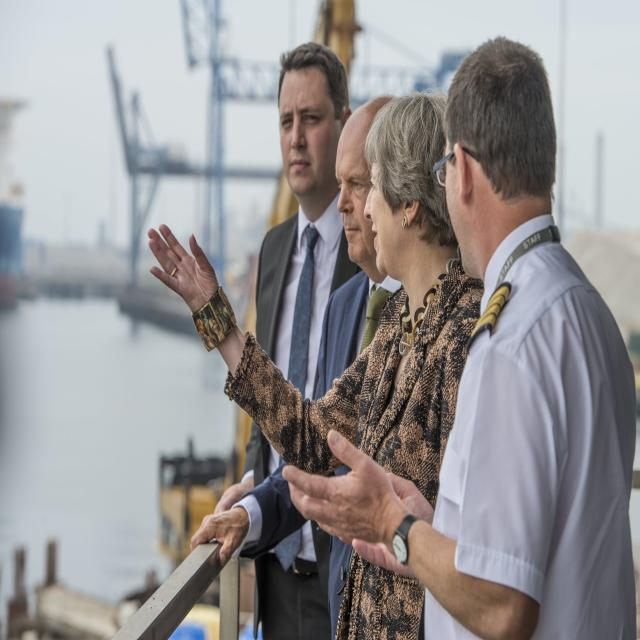body: (274, 27, 640, 638), (146, 93, 486, 640), (210, 94, 396, 639), (212, 41, 363, 640)
